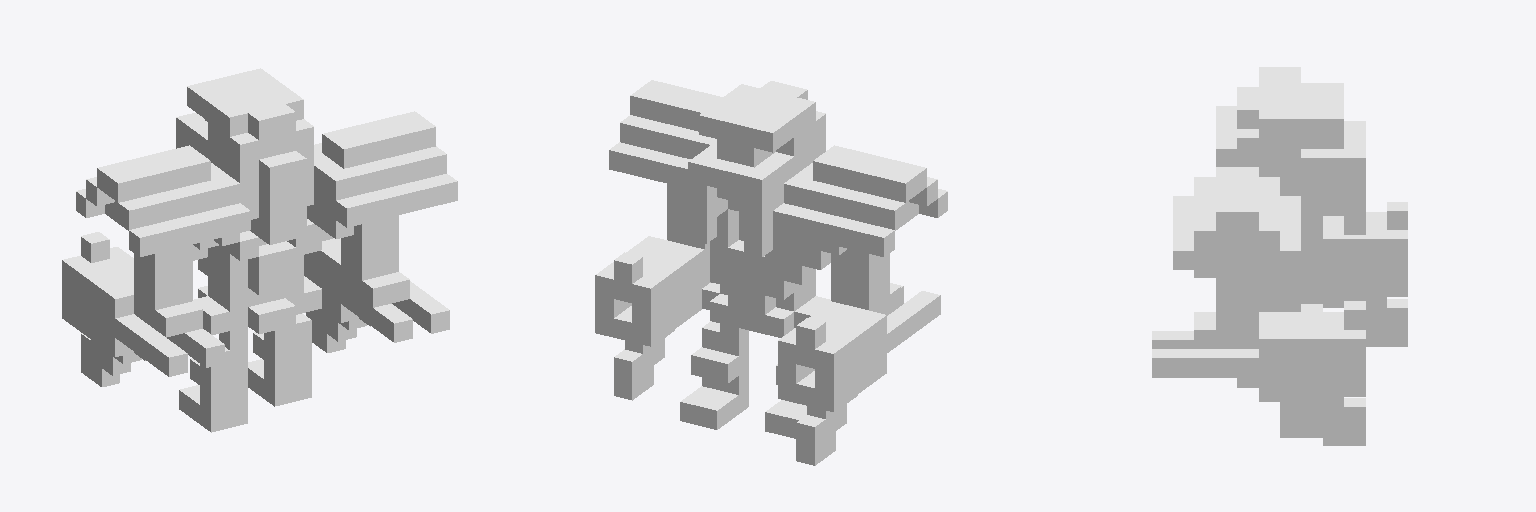
The model's file is guard_attack-00.obj.
3 views of the same model, side by side, from view 1: azimuth 30°, elevation 25°; view 2: azimuth 150°, elevation 25°; view 3: azimuth 270°, elevation 25° (orthographic).
Bounding box in the file's own units: 16 × 16 × 12.